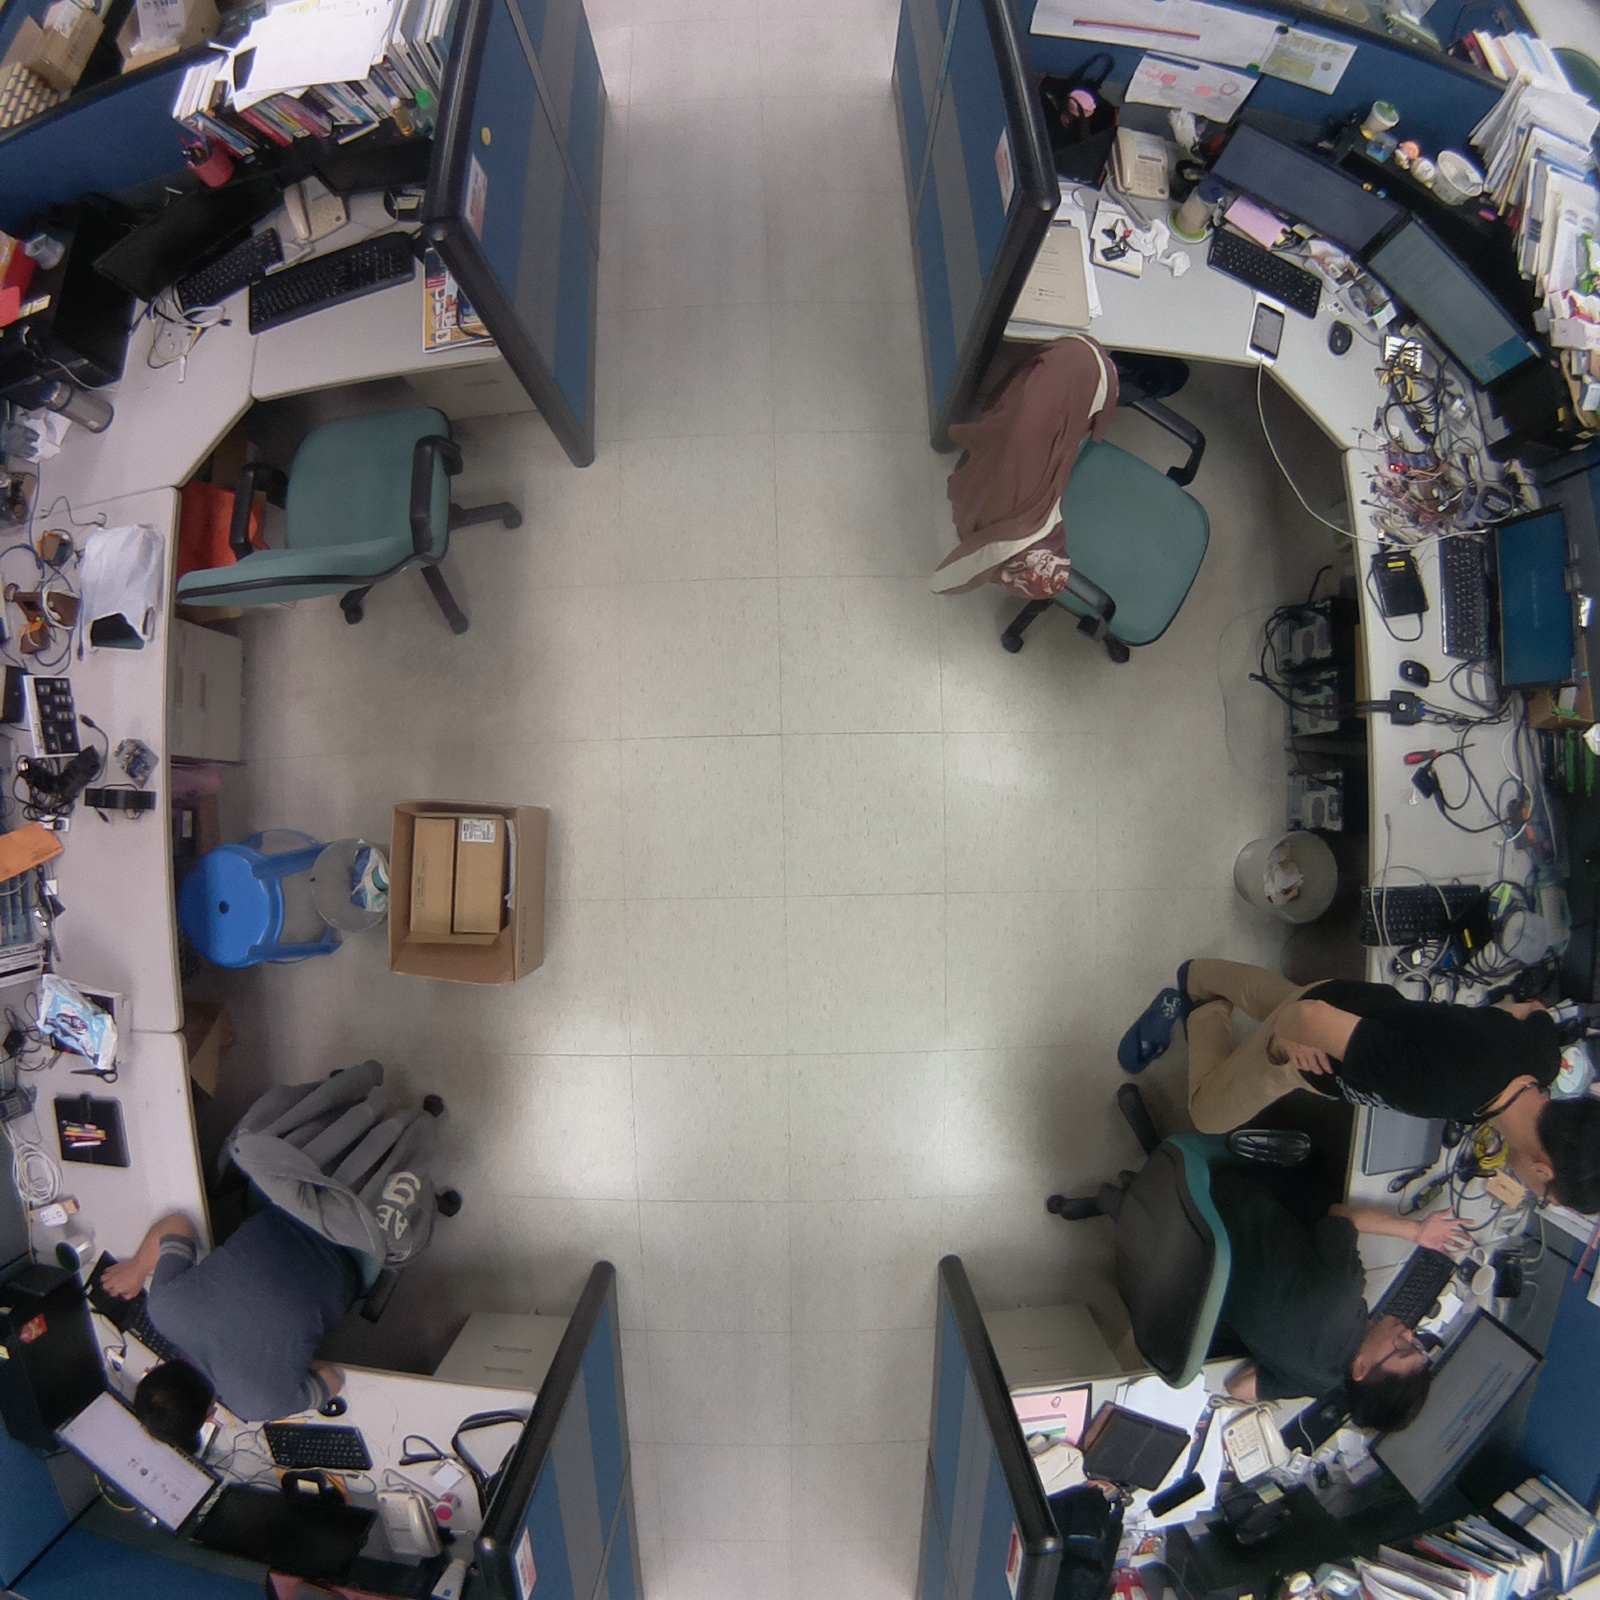chair: (924, 301, 1237, 691), (155, 368, 537, 652)
head: (1337, 1302, 1448, 1441), (1492, 1088, 1600, 1220), (119, 1361, 221, 1455)
sitting: (97, 1027, 509, 1444), (1106, 1098, 1445, 1437)
standing: (1086, 929, 1600, 1223)
